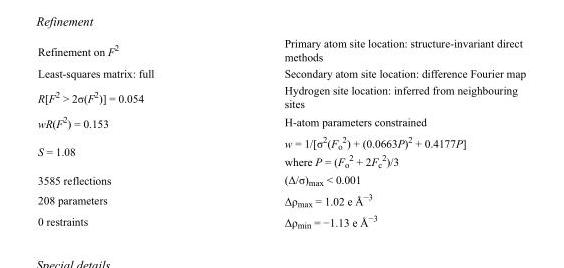table: (37, 36, 525, 229)
table column: (218, 36, 525, 229), (37, 36, 218, 229)
table row: (37, 131, 525, 170), (37, 81, 525, 111), (37, 36, 525, 64), (37, 189, 525, 210), (37, 111, 525, 131), (37, 170, 525, 189), (37, 210, 525, 229), (37, 64, 525, 81)
